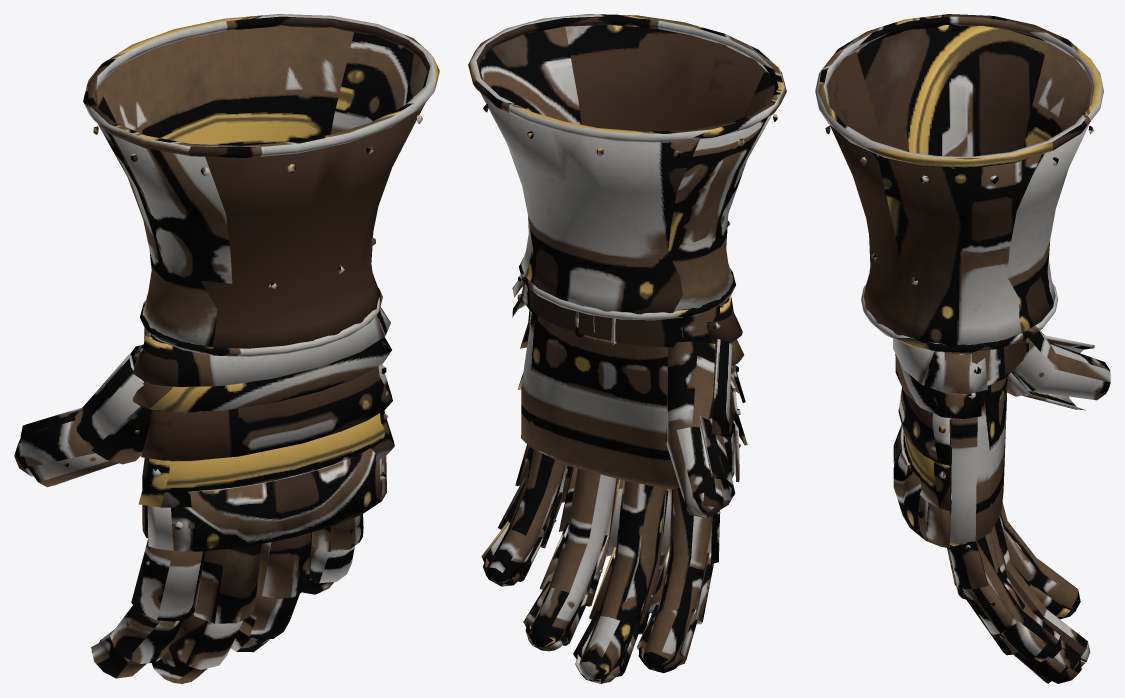
The model's file is SM_EagleGauntlets_R_ROD2.fbx.
The picture shows the model from 3 angles, left to right: view 1: azimuth 30°, elevation 25°; view 2: azimuth 150°, elevation 25°; view 3: azimuth 270°, elevation 25°; orthographic projection. The views are drawn at different scales.
Visible parts, largest first — view 1: SM_EagleGauntlets_R_ROD2; view 2: SM_EagleGauntlets_R_ROD2; view 3: SM_EagleGauntlets_R_ROD2.
Boxes of the visible parts, left/top/right/bottom form: SM_EagleGauntlets_R_ROD2: left=14, top=14, right=439, bottom=683; SM_EagleGauntlets_R_ROD2: left=468, top=14, right=786, bottom=683; SM_EagleGauntlets_R_ROD2: left=815, top=14, right=1110, bottom=683.
Size of the model in its own units: 0.1516 by 0.2703 by 0.1215.
